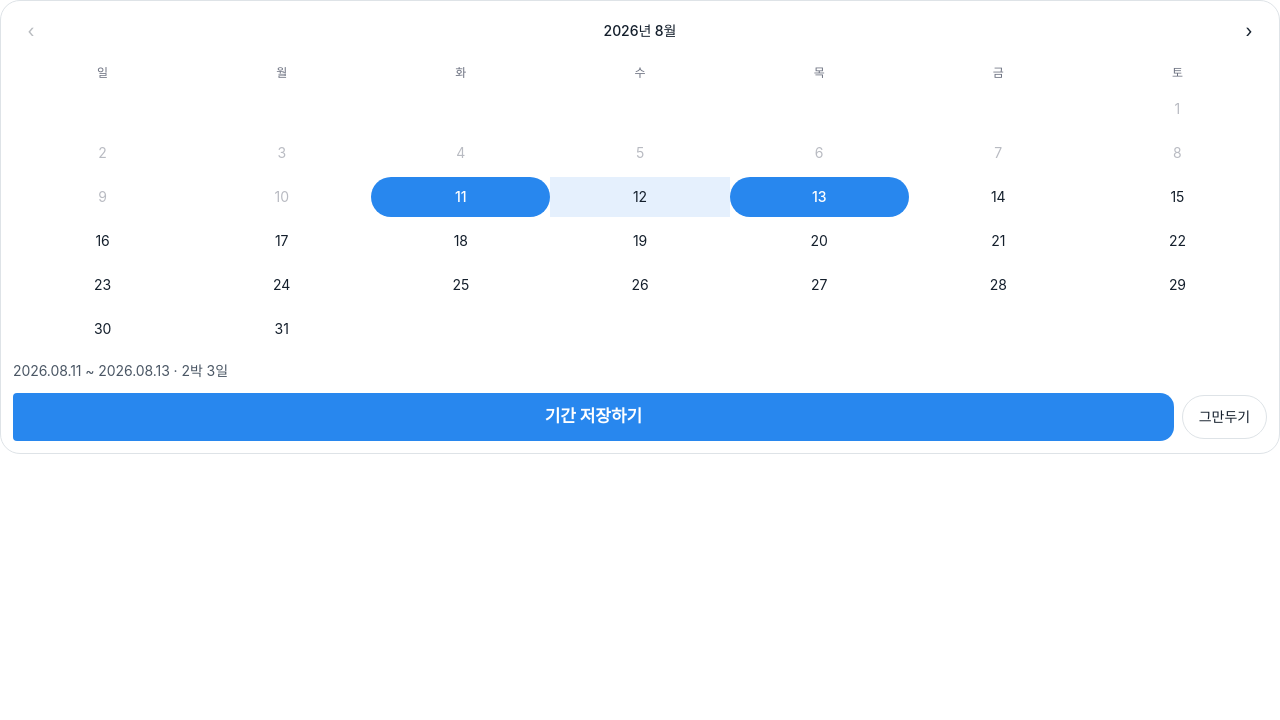
Test case: TripDatesForm — 줄이기 확인 (PRD 엣지: 데이터 손실 금지·놀람 방지) › 담긴 곳이 있는 Day 가 사라지면 실행 전에 묻는다
Click the button named "2026년 8월 11일" at point(461, 197), box x1=371 y1=177 x2=550 y2=217
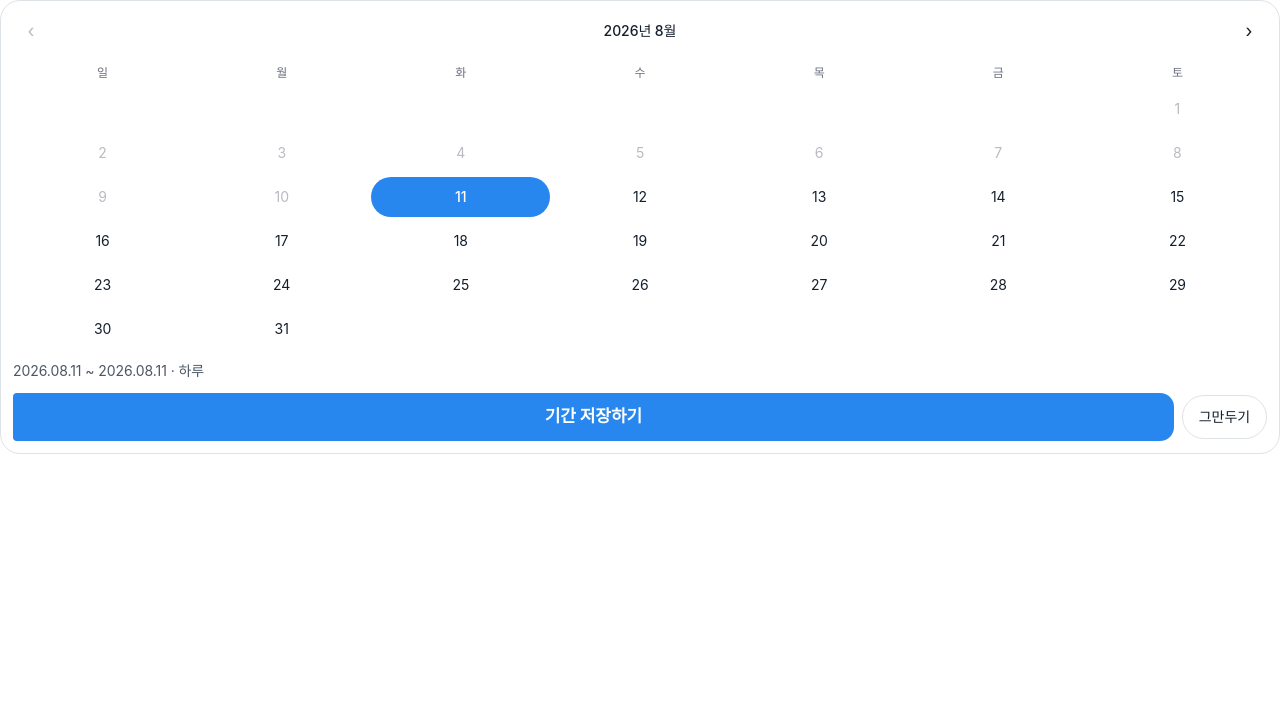
Click the button named "2026년 8월 12일" at point(640, 197), box x1=550 y1=177 x2=730 y2=217
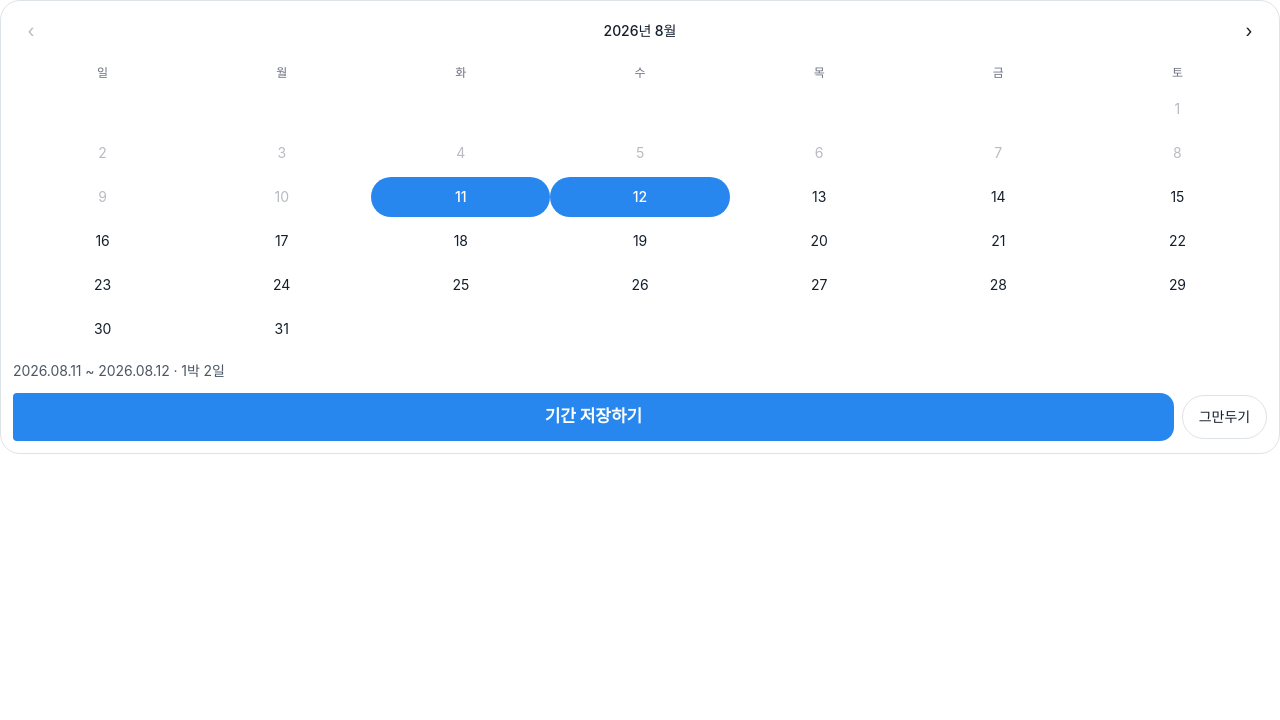
Click the button "기간 저장하기" at point(593, 417), box x1=13 y1=393 x2=1174 y2=441
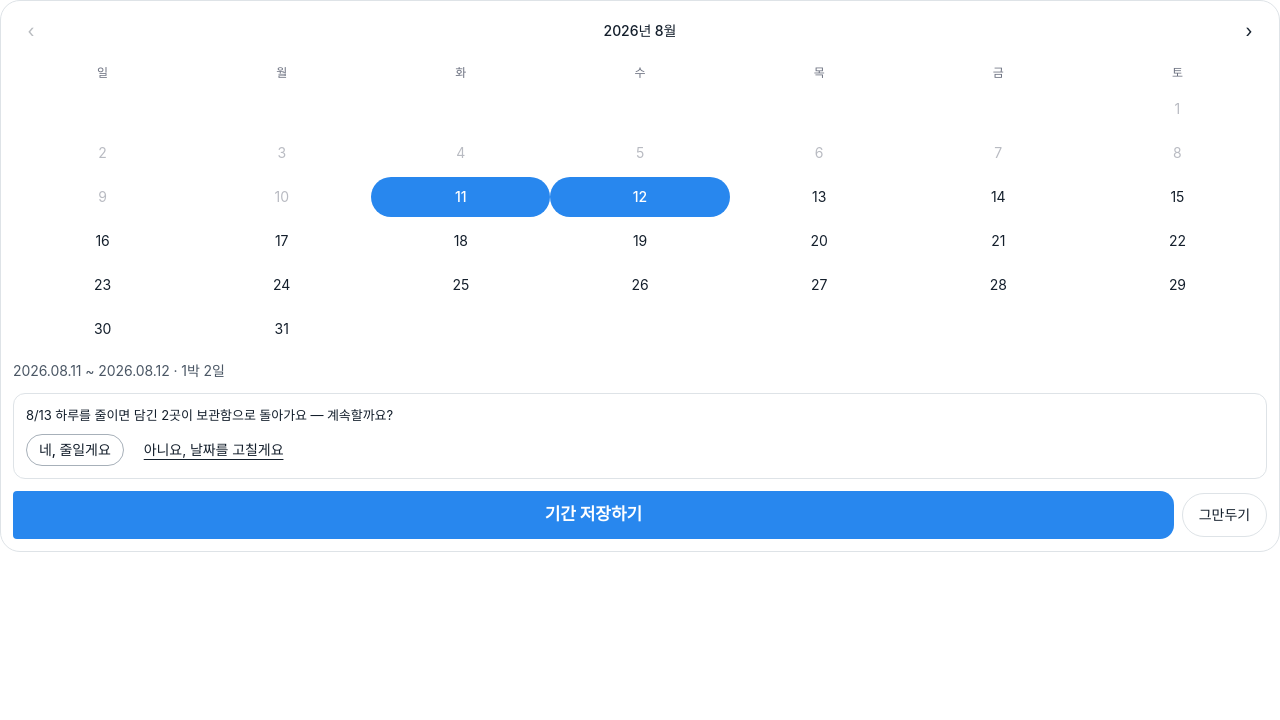
Check: the message shows "8/13 하루를 줄이면 담긴 2곳이 보관함으로 돌아가요 — 계속할까요?", box x1=26 y1=407 x2=393 y2=423
